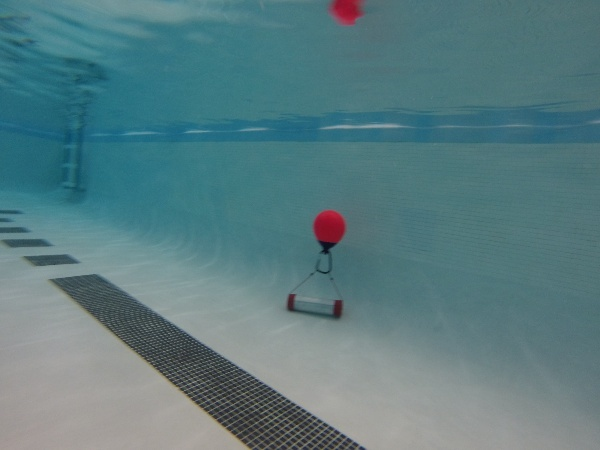buoy_red: (309, 207, 349, 257)
